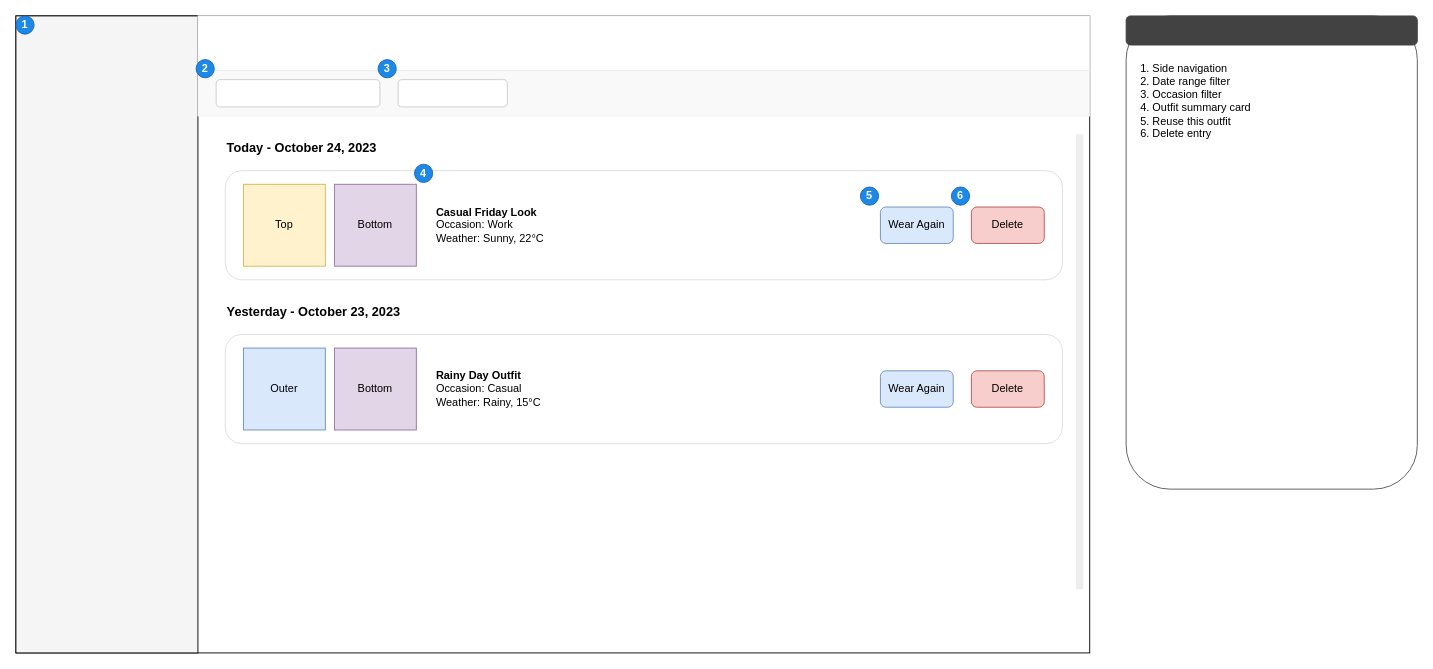
This 1433x669 diagram has some shape labels left out. Each missing label, with the box of its shape:
Annotated Notes: (1125, 15, 1417, 45)
Date Range: Last 30 Days V: (215, 79, 380, 107)
MENU Dashboard My Closet OOTD Generator * History Settings: (15, 15, 198, 653)
Occasion: All V: (397, 79, 507, 107)
Outfit History & Logs: (197, 15, 1090, 71)
